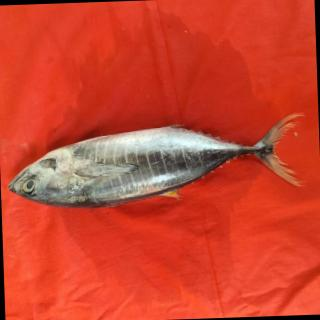Ikan: (3, 109, 310, 223)
